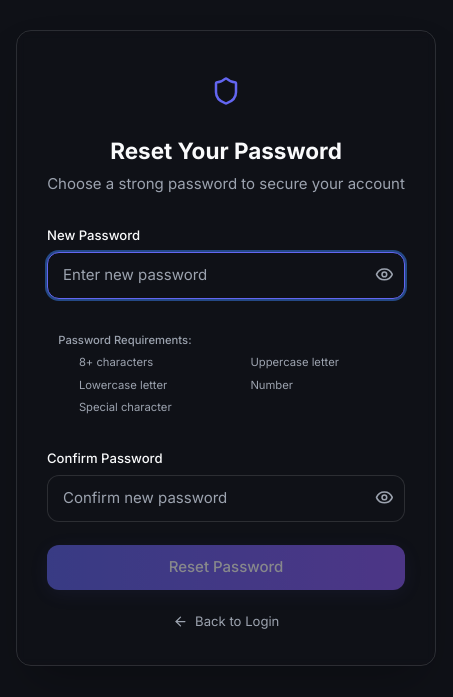
Test: ResetPasswordPage › shows error when passwords do not match
Step 1. Type "StrongPass123!" into the password field labelled "New Password" → (226, 275), box [47,252,405,299]
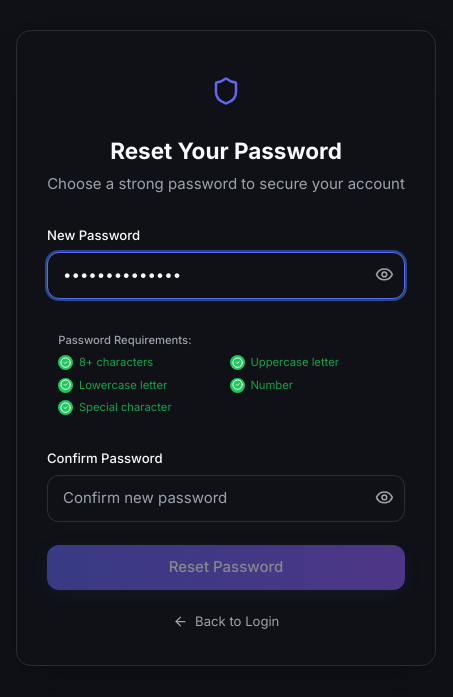
Step 2. Type "DifferentPass123!" into the password field labelled "Confirm Password" → (226, 499), box [47,475,405,522]
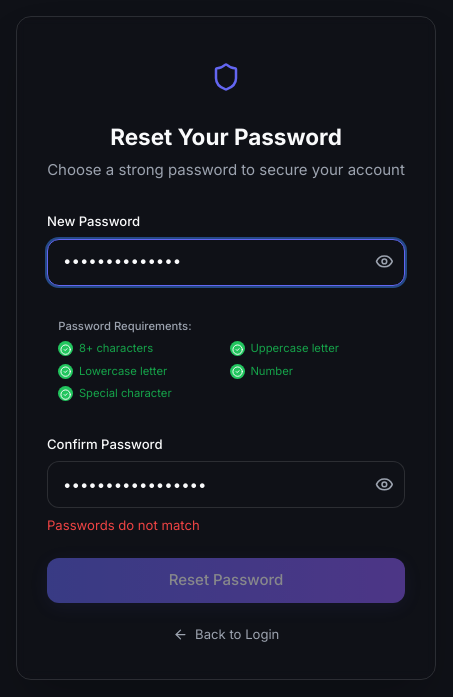
Now the text "Passwords do not match" is shown, box [47,517,200,533]
